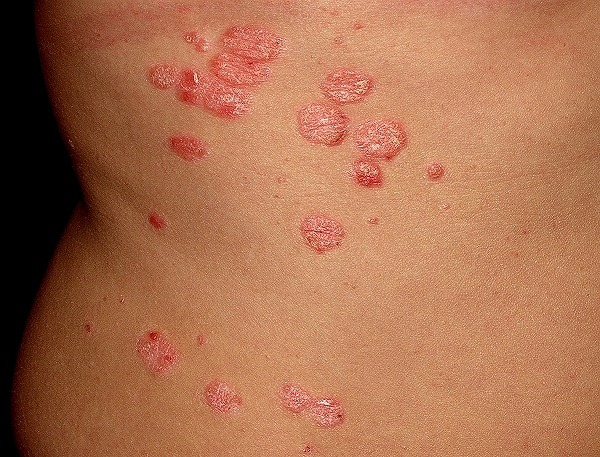Psoriasis: (173, 23, 280, 122), (130, 329, 184, 388), (291, 100, 350, 152), (319, 62, 385, 106), (352, 113, 415, 157), (299, 205, 348, 257), (305, 382, 353, 430), (196, 370, 246, 414), (166, 130, 214, 171), (278, 370, 320, 413), (351, 150, 393, 192), (139, 62, 182, 92), (421, 153, 451, 185), (142, 207, 171, 237)
